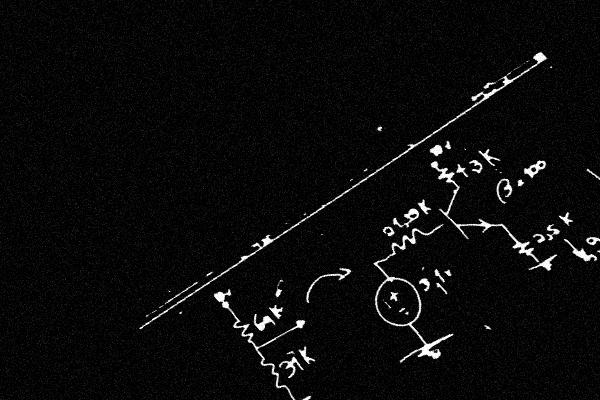ground: (392, 326, 464, 375), (520, 247, 565, 281), (277, 388, 320, 400)
resistor: (376, 219, 440, 262), (246, 349, 300, 398), (223, 311, 266, 349), (504, 230, 544, 264), (429, 162, 464, 191)
voltage: (352, 264, 444, 340)
